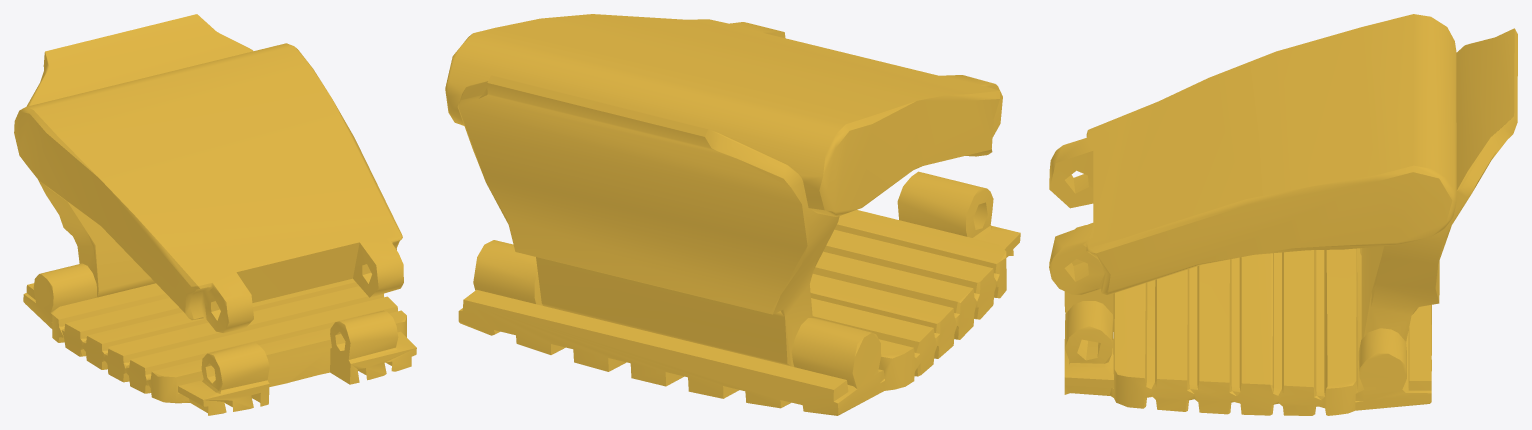
The model's file is link_finger_base_simplified.3obj.obj.glb.
The picture shows the model from 3 angles, left to right: view 1: azimuth 30°, elevation 25°; view 2: azimuth 150°, elevation 25°; view 3: azimuth 270°, elevation 25°; orthographic projection. The views are drawn at different scales.
Parts seen in each view (by area): view 1: link_finger_base_simplified.3obj.obj; view 2: link_finger_base_simplified.3obj.obj; view 3: link_finger_base_simplified.3obj.obj.
Part boxes in pixels (bbox=[...]): link_finger_base_simplified.3obj.obj: bbox=[14, 14, 416, 415]; link_finger_base_simplified.3obj.obj: bbox=[445, 14, 1020, 415]; link_finger_base_simplified.3obj.obj: bbox=[1049, 14, 1517, 415].
Size of the model in its own units: 0.0479 by 0.0373 by 0.0574.
1 material, 1 textured.
